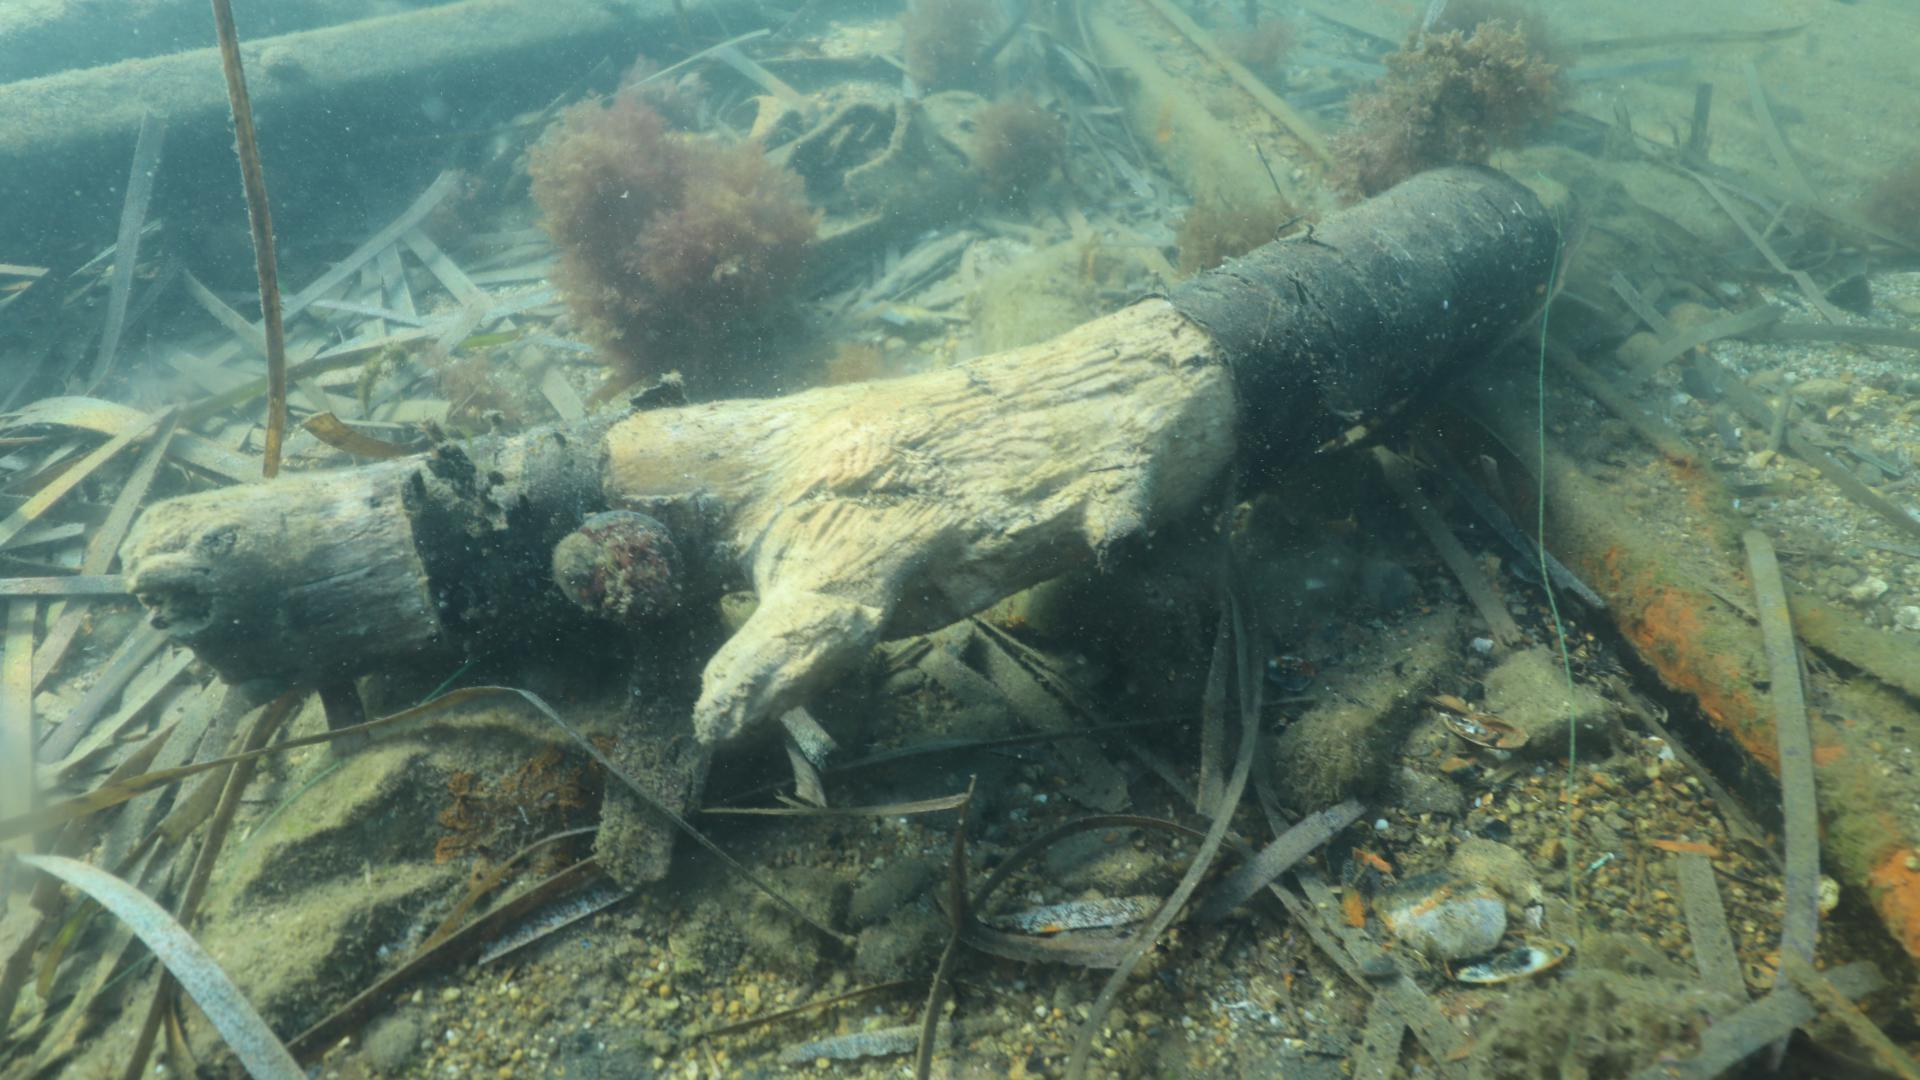wood: (119, 129, 1572, 766)
